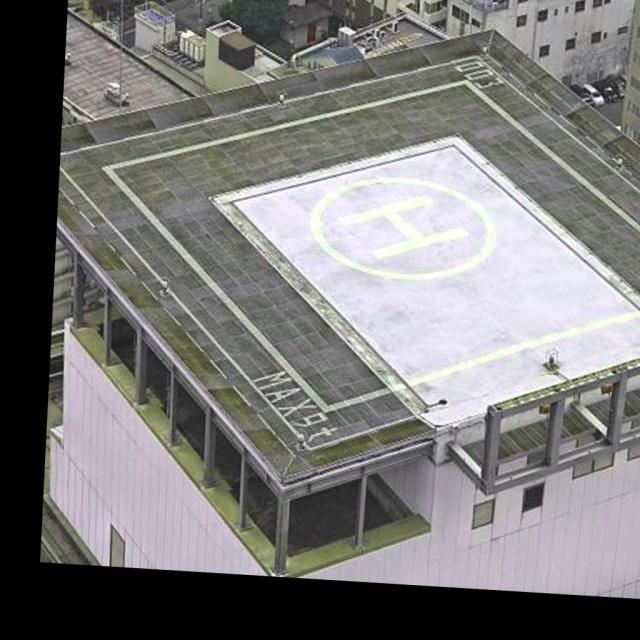helipad: (308, 170, 502, 284)
